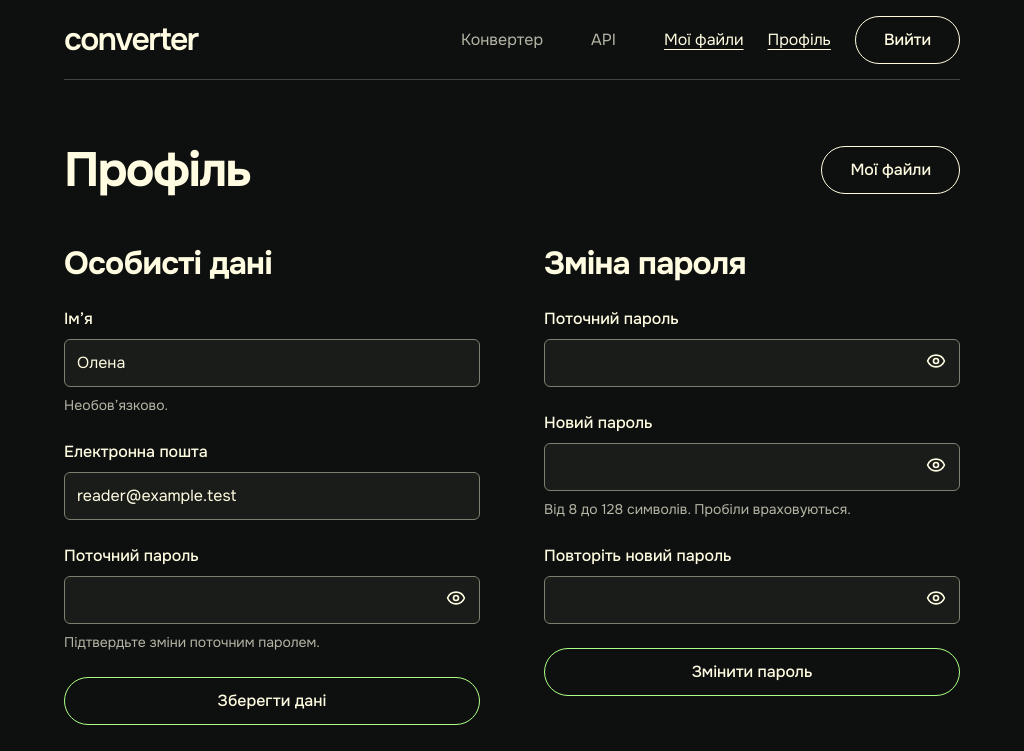
Test: acknowledges email verification without claiming the new email is already active
Replace the text in the field labelled "Електронна пошта" with "new@example.test" at (272, 496), box [64,472,480,520]
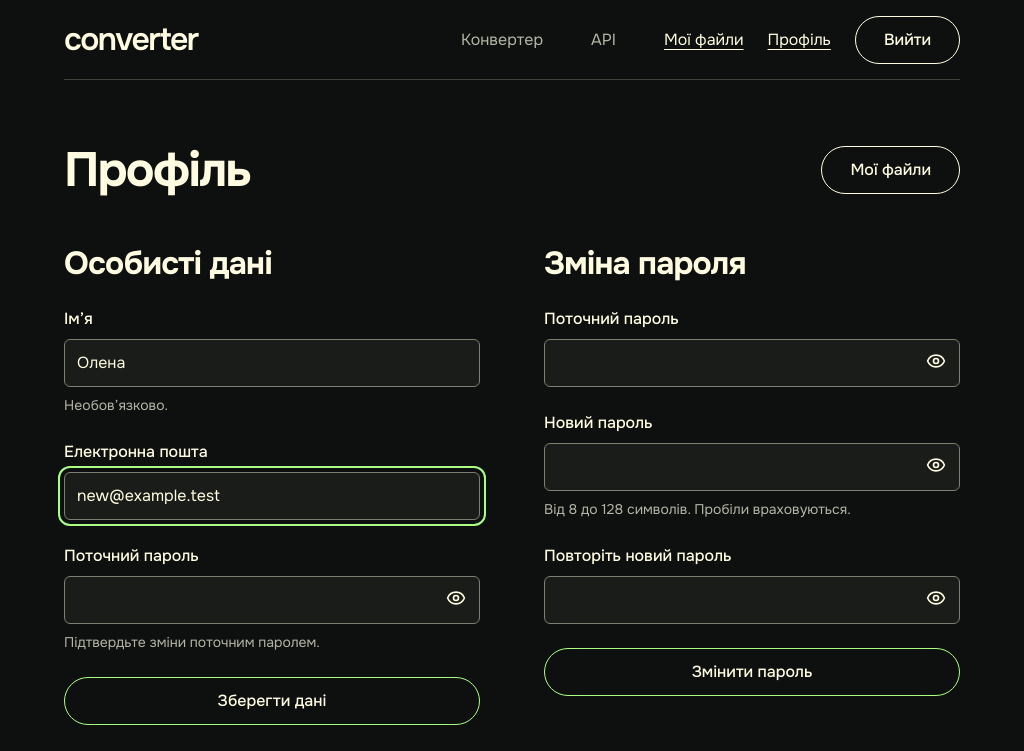
Type "synthetic-current" into the password field labelled "Поточний пароль" below "Електронна пошта" at (272, 600), box [64,576,480,624]
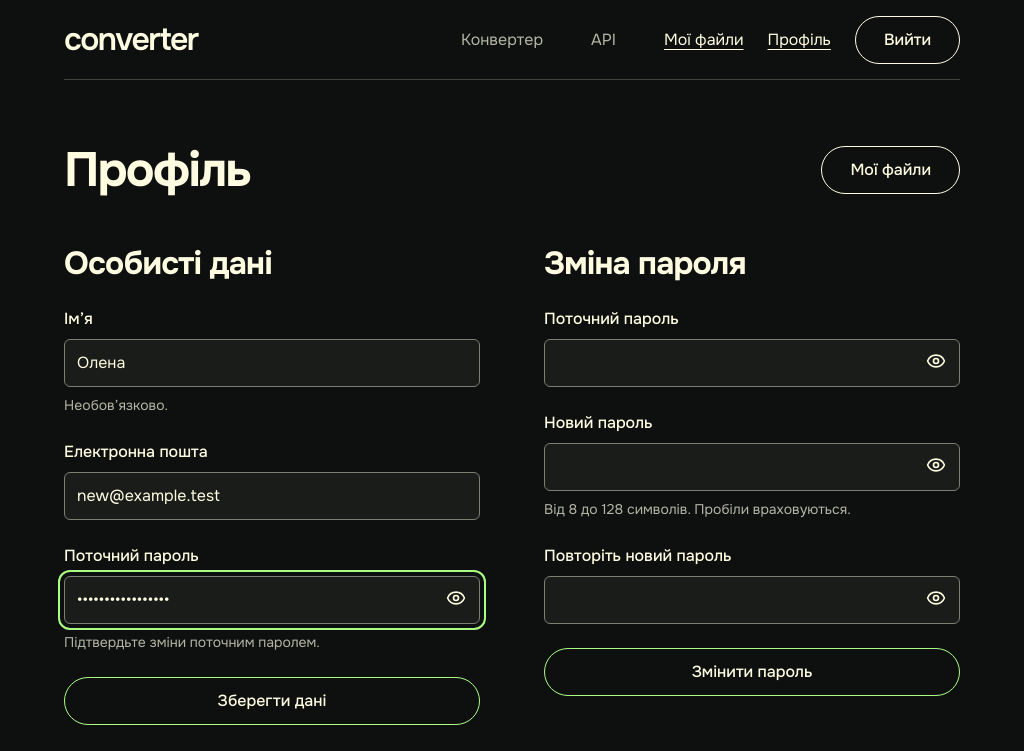
Click the button "Зберегти дані" at (272, 701), box [64,677,480,725]
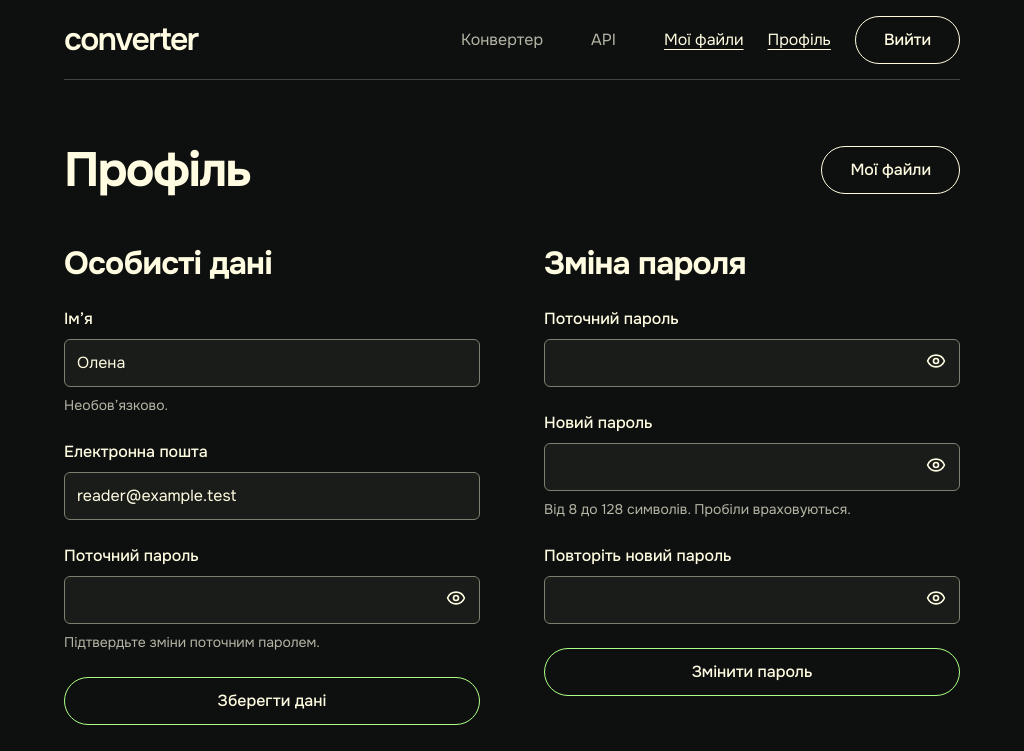
Check: the field labelled "Електронна пошта" holds "reader@example.test", box [64,472,480,520]
